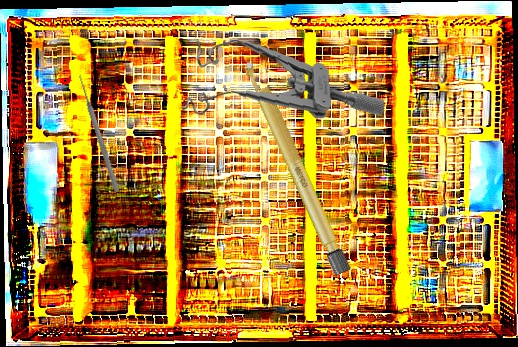Pusher: (75, 73, 122, 193)
Scalpel Handle: (239, 54, 353, 277)
Speculum: (177, 27, 385, 130)
